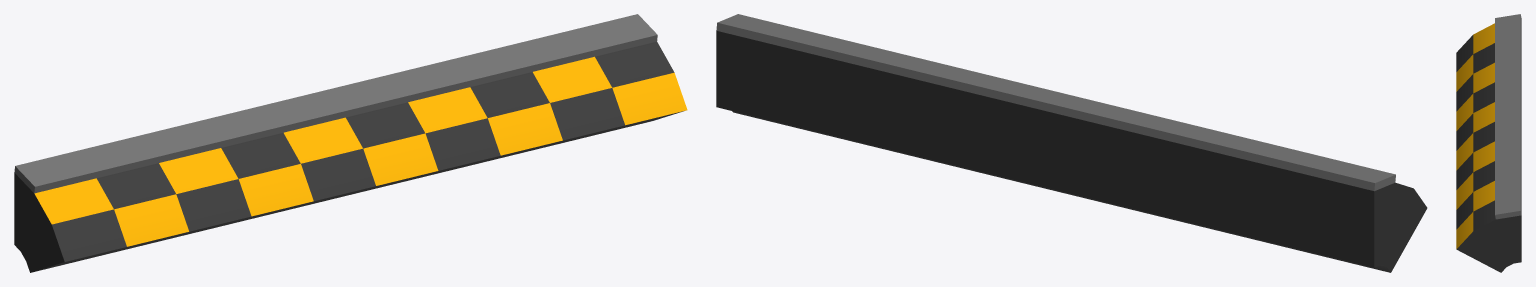
File: kea1b.obj
3 views of the same model, side by side, from view 1: azimuth 30°, elevation 25°; view 2: azimuth 150°, elevation 25°; view 3: azimuth 270°, elevation 25° (orthographic). The views are drawn at different scales.
Visible parts, largest first — view 1: Cube2; view 2: Cube2; view 3: Cube2.
Part boxes in pixels (x1,y1,x2,y2): Cube2: (14,14,687,272); Cube2: (716,14,1427,272); Cube2: (1456,14,1521,272).
Size of the model in its own units: 9 by 1.33 by 1.26.
